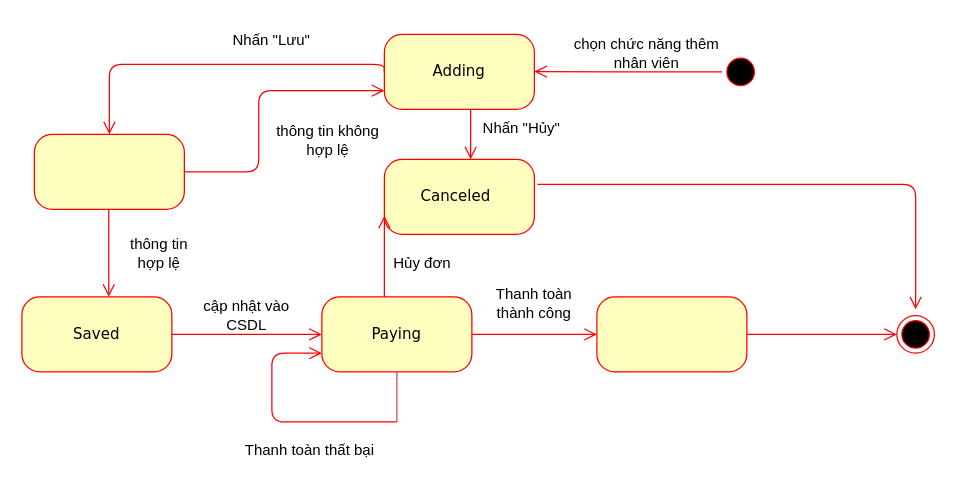
Image size: 956x490. Some labels were removed from this diagram. Here are the shapes that lost their labels. From the top down, the centre of each, then its label:
At pixel 108 171: "Checking".
At pixel 671 334: "Confirmed".
